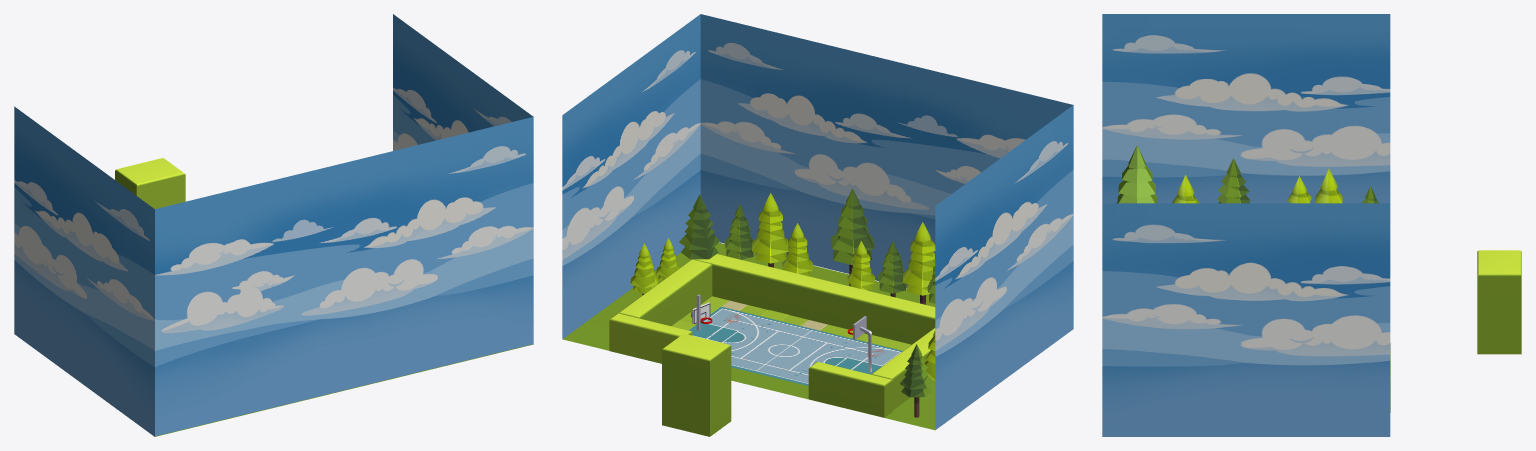
Rendered from maplv3.fbx.
3 renders of one model, left to right at view 1: azimuth 30°, elevation 25°; view 2: azimuth 150°, elevation 25°; view 3: azimuth 270°, elevation 25°, orthographic. The views are drawn at different scales.
Visible parts, largest first — view 1: polySurface117, polySurface156, polySurface157, polySurface126; view 2: polySurface117, polySurface156, polySurface157, polySurface66, polySurface53, polySurface126, polySurface151, polySurface167, polySurface141, polySurface33, polySurface76, polySurface99 (+10 smaller); view 3: polySurface157, polySurface156, polySurface126, polySurface96, polySurface68, polySurface42, polySurface104.
Part boxes in pixels (x1,y1,x2,y2): polySurface117: [155, 117, 533, 436]; polySurface156: [14, 106, 154, 436]; polySurface157: [393, 14, 533, 344]; polySurface126: [115, 158, 185, 208]; polySurface117: [700, 14, 1072, 287]; polySurface156: [935, 105, 1073, 429]; polySurface157: [562, 14, 700, 338]; polySurface66: [692, 254, 935, 344]; polySurface53: [688, 306, 902, 385]; polySurface126: [662, 333, 731, 436]; polySurface151: [562, 242, 935, 430]; polySurface167: [808, 361, 892, 417]; polySurface141: [619, 259, 712, 325]; polySurface33: [609, 313, 692, 363]; polySurface76: [831, 188, 874, 286]; polySurface99: [752, 193, 788, 267]; polySurface157: [1102, 203, 1390, 436]; polySurface156: [1102, 14, 1390, 203]; polySurface126: [1477, 250, 1521, 354]; polySurface96: [1116, 145, 1157, 203]; polySurface68: [1217, 158, 1250, 203]; polySurface42: [1315, 169, 1342, 203]; polySurface104: [1172, 175, 1198, 203].
Bounding box in the file's own units: 4655 × 2683 × 4354.
